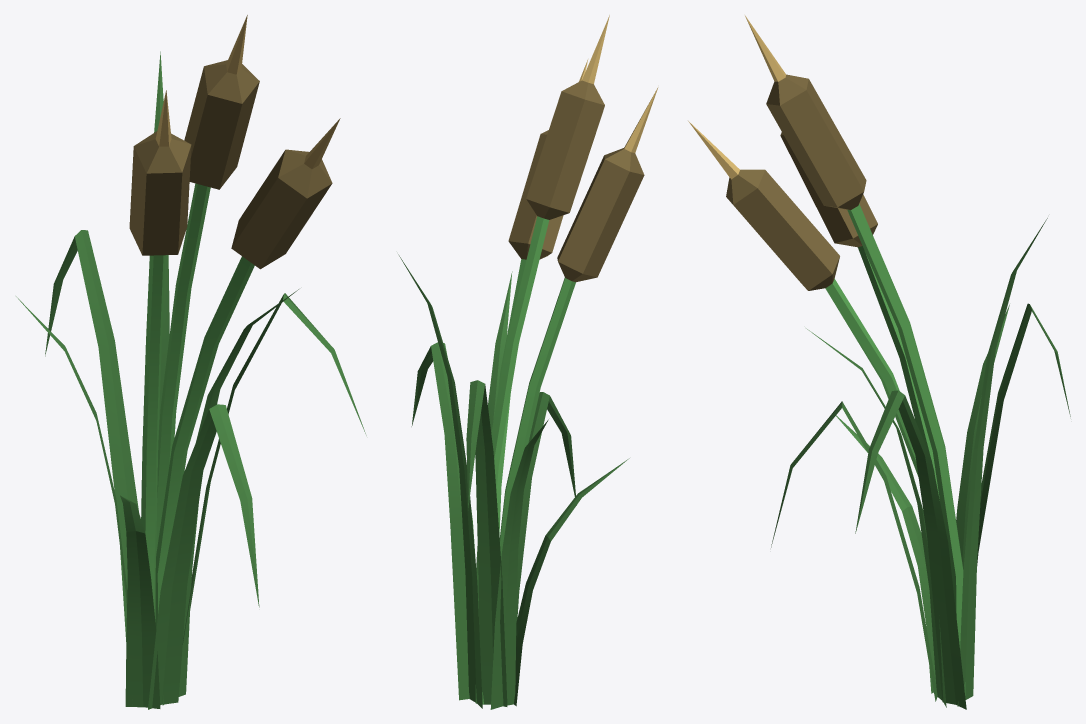
File: Cattail Cluster 1.obj
The picture shows the model from 3 angles, left to right: view 1: azimuth 30°, elevation 25°; view 2: azimuth 150°, elevation 25°; view 3: azimuth 270°, elevation 25°; orthographic projection. The views are drawn at different scales.
Bounding box in the file's own units: 31.43 × 89.2 × 46.3.
Materials: 1 (1 with a texture image).
